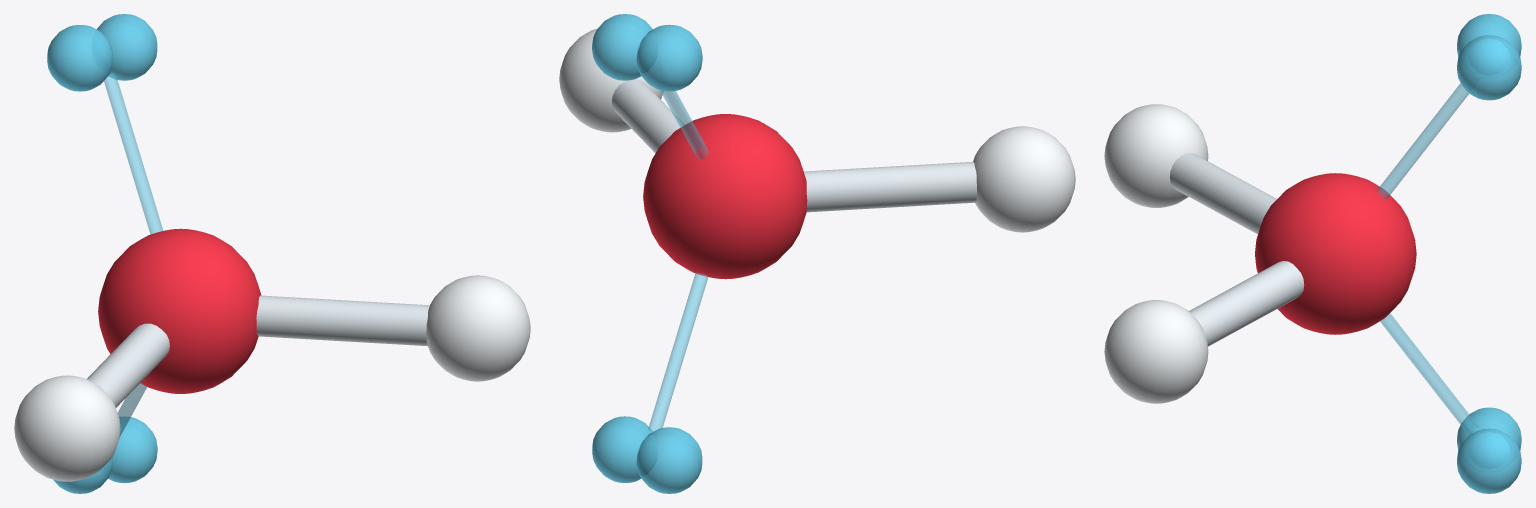
The model's file is water_molecule_tetrahedron.glb.
3 views of the same model, side by side, from view 1: azimuth 30°, elevation 25°; view 2: azimuth 150°, elevation 25°; view 3: azimuth 270°, elevation 25° (orthographic). The views are drawn at different scales.
Parts seen in each view (by area): view 1: H2O tetrahedral electron-pair model; view 2: H2O tetrahedral electron-pair model; view 3: H2O tetrahedral electron-pair model.
Part boxes in pixels (bbox=[...]): H2O tetrahedral electron-pair model: bbox=[14, 14, 530, 493]; H2O tetrahedral electron-pair model: bbox=[559, 14, 1075, 493]; H2O tetrahedral electron-pair model: bbox=[1104, 14, 1521, 493].
Size of the model in its own units: 2.94 by 2.59 by 2.16.
